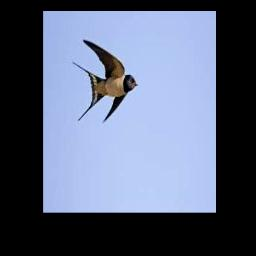Swallow: (72, 39, 138, 122)
